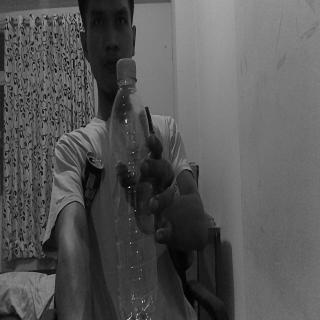alumunium_can: (81, 151, 104, 217)
plastic_bottles: (106, 55, 159, 320)
